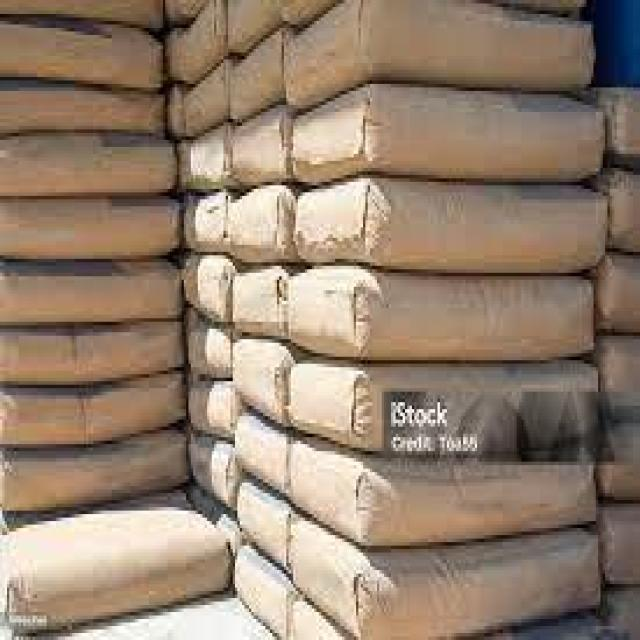gunny_bag: (291, 521, 596, 640), (287, 3, 594, 112), (6, 495, 229, 635), (291, 443, 594, 545), (293, 85, 601, 185), (291, 363, 590, 461), (304, 185, 597, 273), (290, 280, 587, 365), (6, 435, 184, 518), (6, 378, 184, 446), (6, 323, 180, 390), (0, 266, 177, 331), (3, 200, 180, 263), (4, 133, 171, 197), (2, 20, 161, 82), (2, 82, 160, 138), (227, 22, 284, 122), (233, 550, 291, 635), (231, 340, 286, 425), (225, 112, 285, 188), (234, 490, 289, 568), (228, 193, 293, 255), (172, 2, 221, 80), (183, 60, 231, 135), (232, 268, 289, 330), (184, 253, 229, 325), (237, 420, 285, 486), (187, 440, 233, 508), (604, 253, 638, 335), (604, 423, 638, 496), (186, 193, 229, 246), (192, 386, 232, 438), (610, 173, 638, 243), (191, 328, 232, 375)
